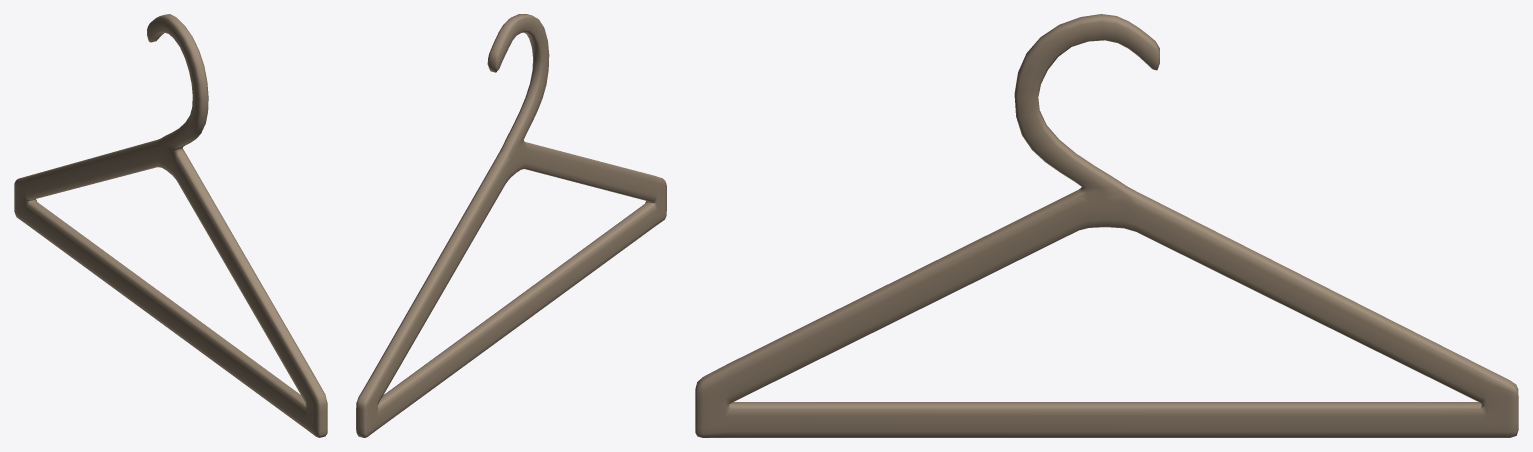
3 views of the same model, side by side, from view 1: azimuth 30°, elevation 25°; view 2: azimuth 150°, elevation 25°; view 3: azimuth 270°, elevation 25° (orthographic). The views are drawn at different scales.
Visible parts, largest first — view 1: EJ; view 2: EJ; view 3: EJ.
Part boxes in pixels (x1,y1,x2,y2): EJ: [14, 14, 327, 437]; EJ: [356, 14, 666, 437]; EJ: [695, 14, 1518, 437].
Bounding box in the file's own units: 1.34 × 35.5 × 63.05.
